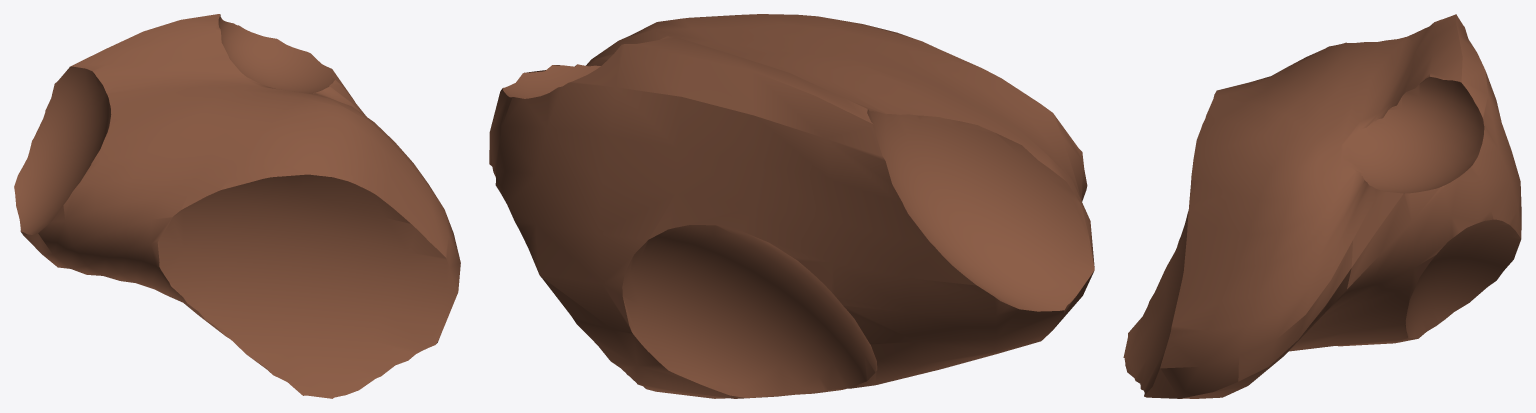
Rendered from Asteroid 3 fix.fbx.
3 views of the same model, side by side, from view 1: azimuth 30°, elevation 25°; view 2: azimuth 150°, elevation 25°; view 3: azimuth 270°, elevation 25° (orthographic). The views are drawn at different scales.
Visible parts, largest first — view 1: rock.003; view 2: rock.003; view 3: rock.003.
Part boxes in pixels (bbox=[...]): rock.003: bbox=[14, 14, 460, 398]; rock.003: bbox=[489, 14, 1094, 398]; rock.003: bbox=[1123, 14, 1521, 398].
Bounding box in the file's own units: 144 × 99.25 × 119.
